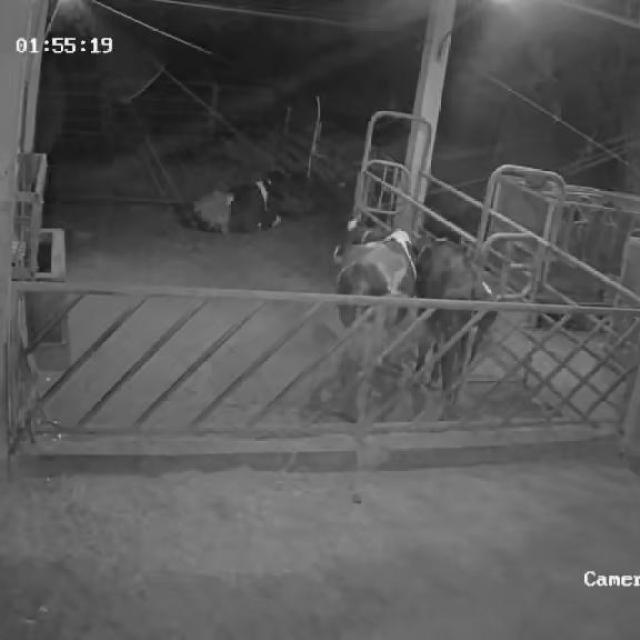lying down: (185, 148, 300, 254)
standing: (338, 217, 415, 397)
